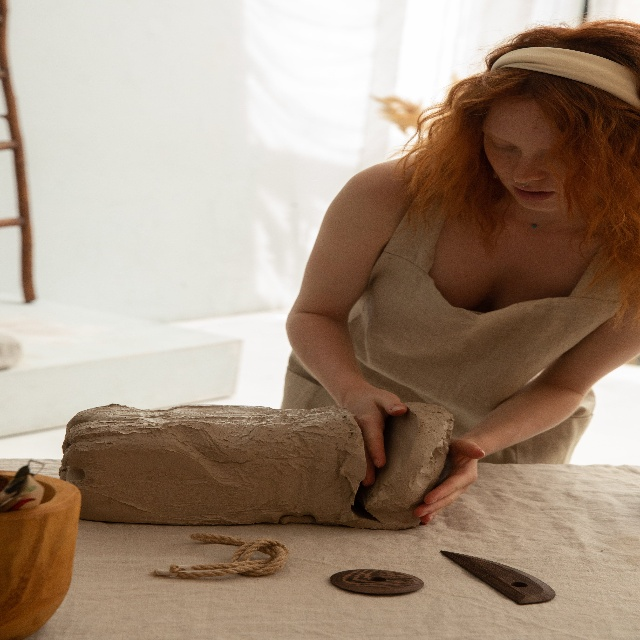Sin_guantes: (346, 378, 408, 488), (413, 438, 485, 526)
